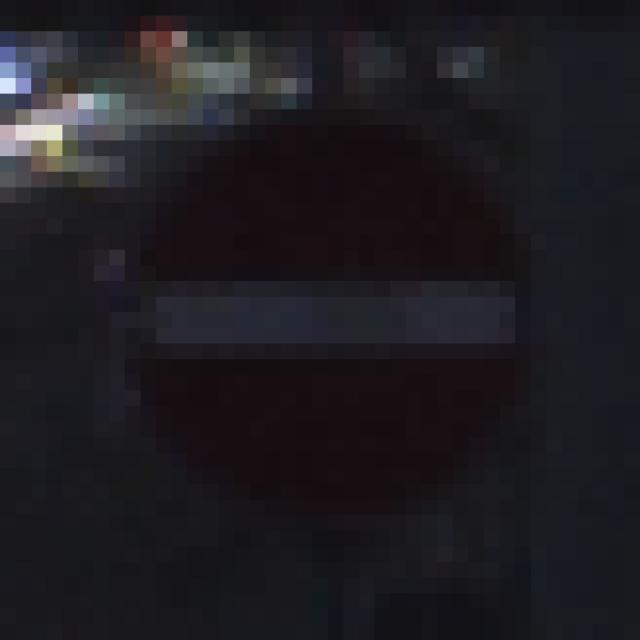No Entry: (95, 79, 563, 563)
